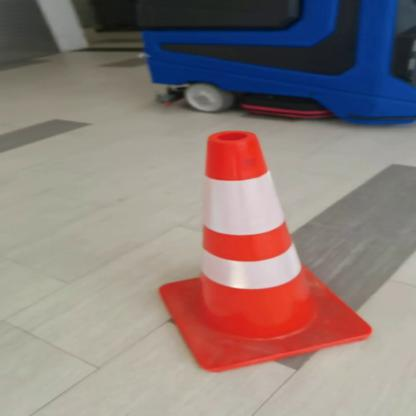cone: (148, 125, 374, 378)
